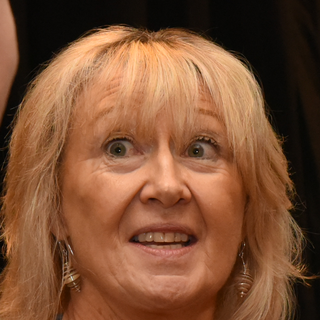eye: (95, 134, 149, 164), (175, 133, 225, 165)
